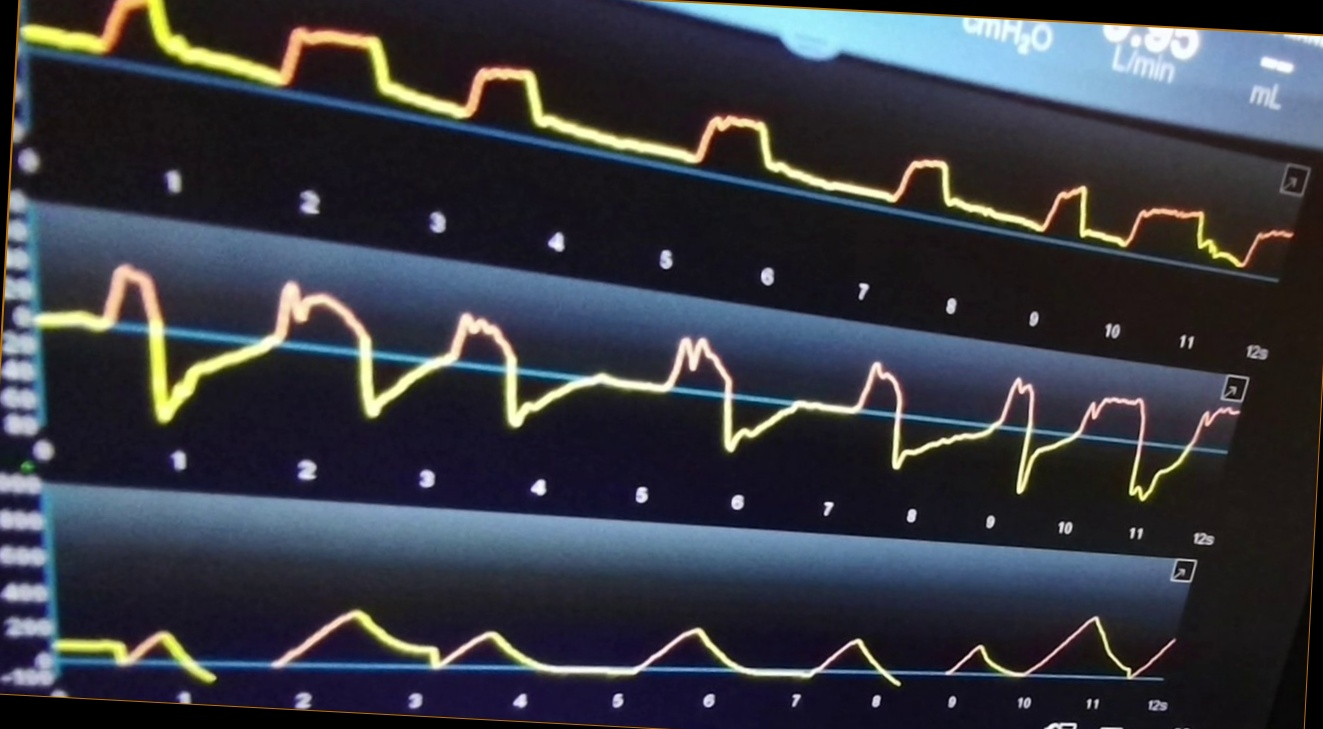Accumulation Flow: (43, 262, 1218, 499)
Volume: (63, 579, 1178, 697)
